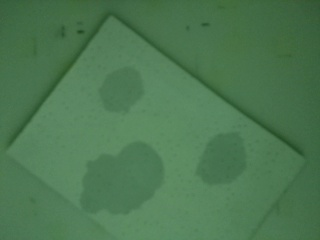Water_detected: (105, 155, 160, 204), (103, 73, 140, 108), (212, 150, 238, 166)
